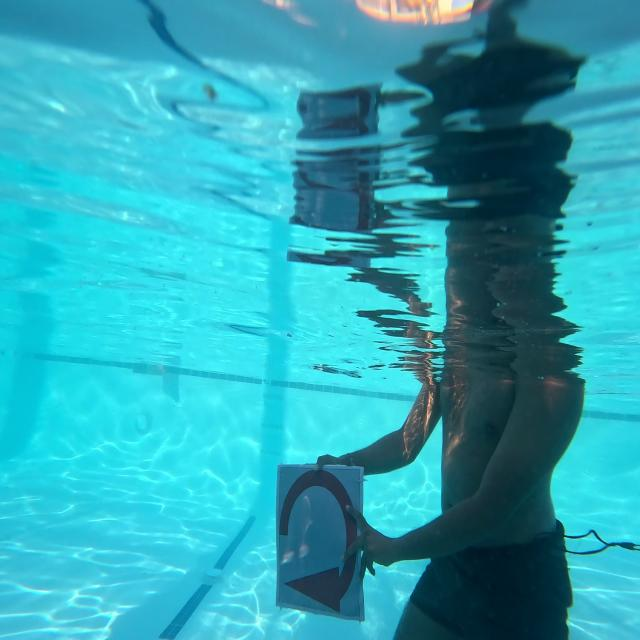red_side: (262, 448, 373, 613)
